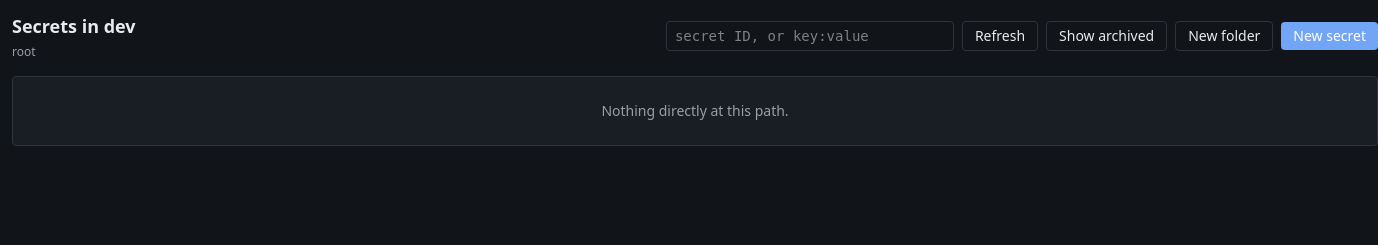
Test: SecretsCatalog search › renders the results of a completed search, spanning the whole environment
The image size is (1378, 245).
Type "stripe" into the search field with id "catalog-filter" at coordinates (810, 36), box left=666, top=21, right=954, bottom=51
Wait 300 ms
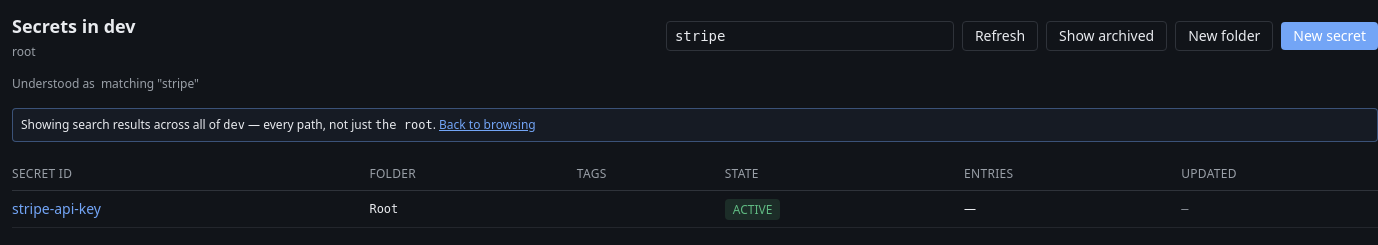
Check: the text "stripe-api-key" is shown, box left=12, top=199, right=101, bottom=218
Check: the text "Showing search results across all of" is shown, box left=21, top=116, right=223, bottom=133
